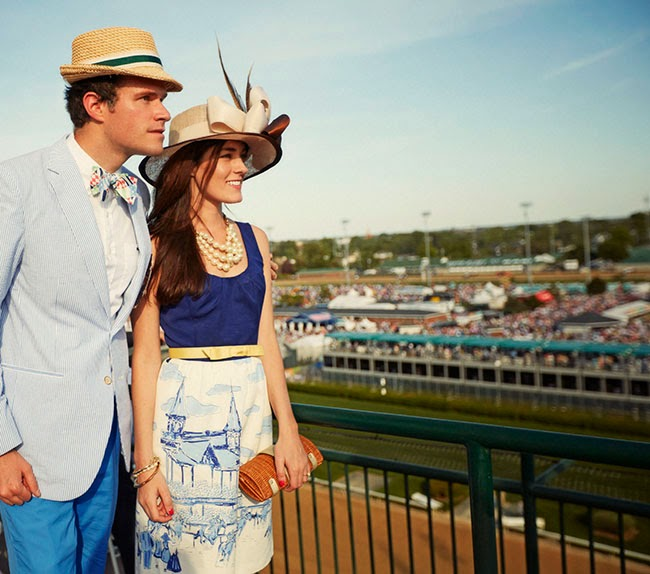Person: (1, 27, 175, 574), (169, 22, 310, 574)
